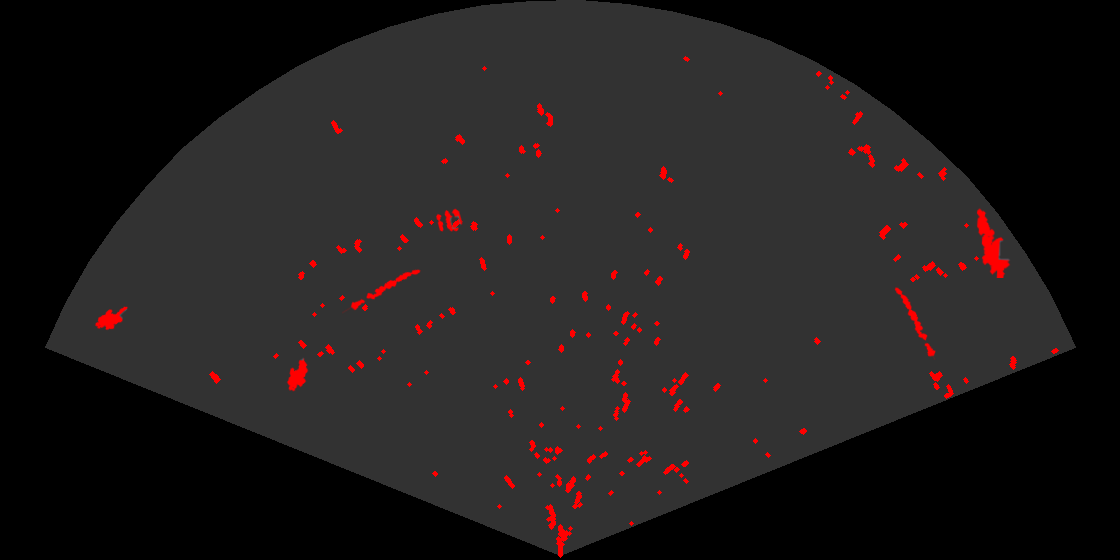AUV: (93, 305, 130, 332), (285, 357, 310, 393)
ball: (435, 207, 464, 233)
chain: (342, 268, 422, 315), (893, 286, 937, 360)
frogman: (975, 207, 1012, 278)
